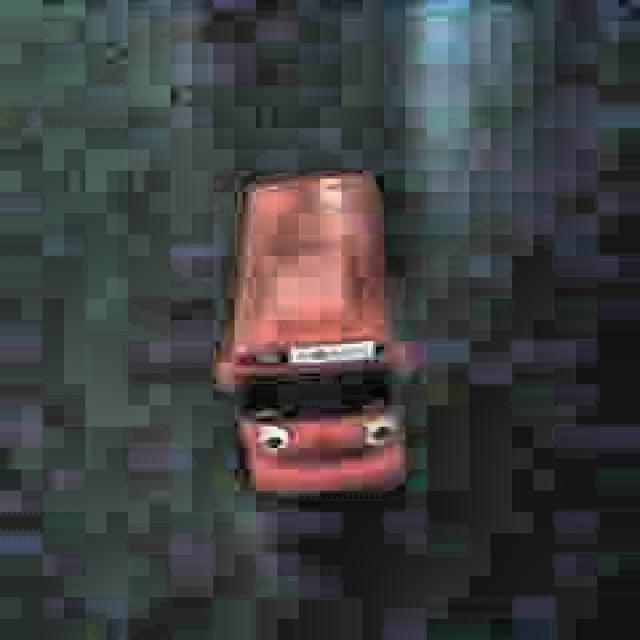bus: (212, 165, 418, 501)
